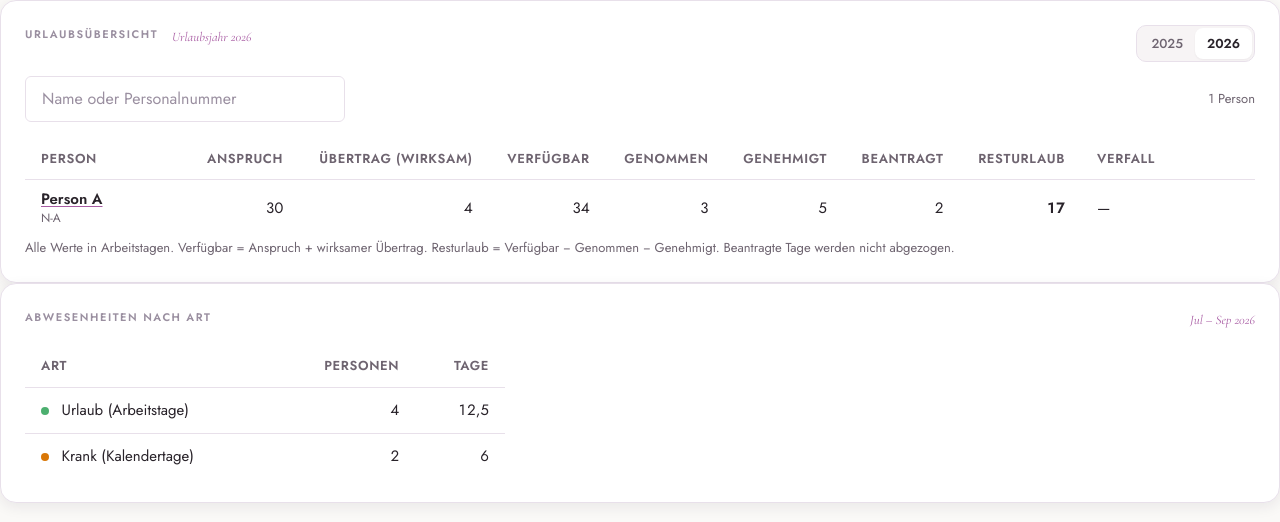
Test case: VacationAbsenceTab - the year switch › offers both years for a period across two years, defaulting to the year of the end
The image size is (1280, 522).
Expected: the text "Urlaubsjahr 2026" is shown, [172,27,251,48]
What coordinates should you click on to do the following:
click the radio button labelled "2025"
I would click on:
 (1167, 44)
Its box is [1139,28,1195,59].
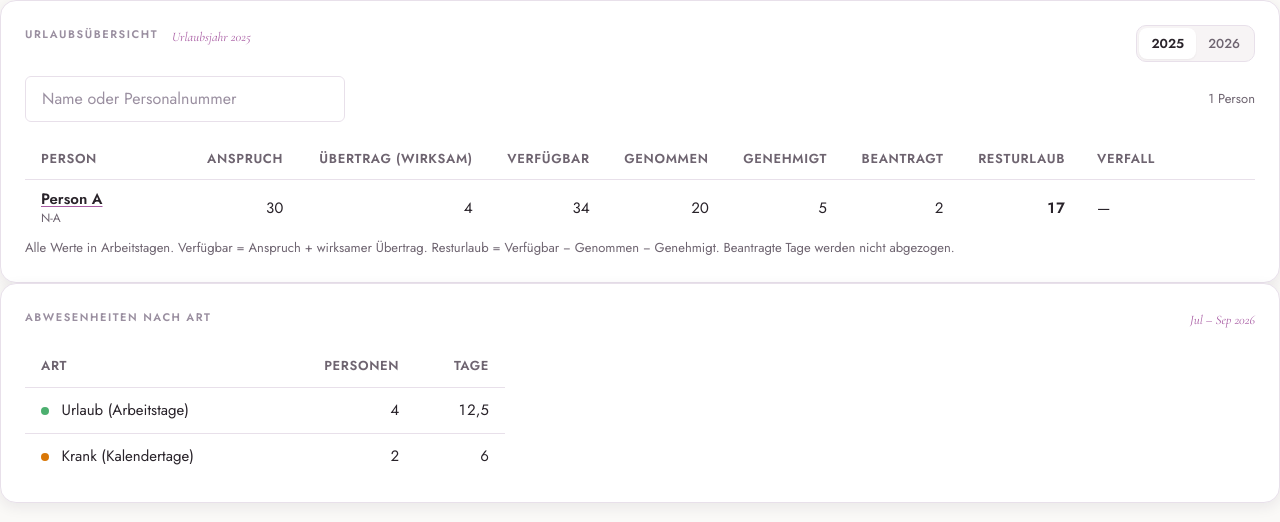
Now the text "Urlaubsjahr 2025" is shown, box [172,27,251,48]
